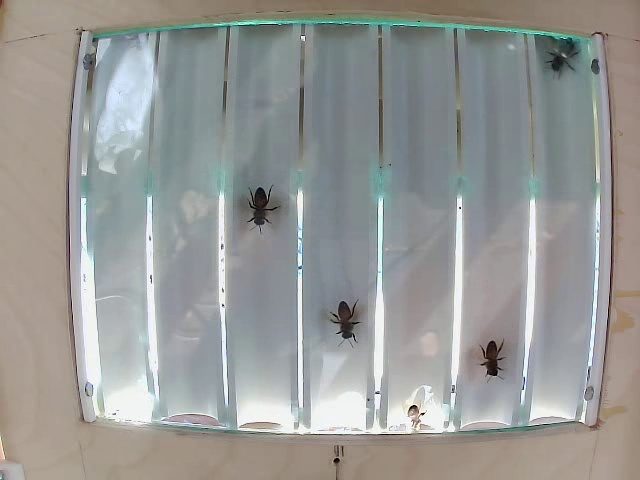bee: (241, 188, 299, 253), (333, 292, 363, 351), (547, 41, 574, 85), (468, 338, 493, 385)
